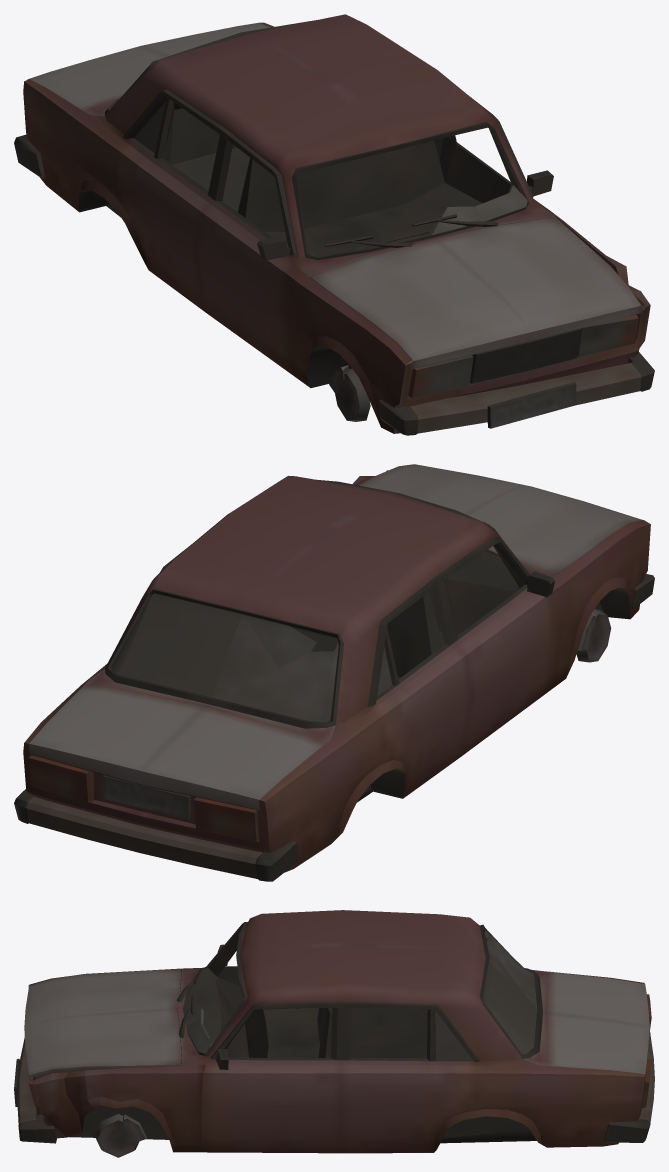
The model's file is vaz_2105dmg.fbx.
3 renders of one model, top to bottom at view 1: azimuth 30°, elevation 25°; view 2: azimuth 150°, elevation 25°; view 3: azimuth 270°, elevation 25°, orthographic. The views are drawn at different scales.
Visible parts, largest first — view 1: bz_vaz2105_d, bz_vaz2105_hood, bz_vaz2105_susp; view 2: bz_vaz2105_d, bz_vaz2105_hood, bz_vaz2105_susp; view 3: bz_vaz2105_d, bz_vaz2105_hood, bz_vaz2105_susp.
Boxes of the visible parts, x1,y1,x2,y2 form: bz_vaz2105_d: (14,14,654,435); bz_vaz2105_hood: (310,217,641,368); bz_vaz2105_susp: (329,365,370,421); bz_vaz2105_d: (14,470,654,881); bz_vaz2105_hood: (359,464,642,574); bz_vaz2105_susp: (576,609,611,662); bz_vaz2105_d: (14,910,654,1153); bz_vaz2105_hood: (24,968,181,1081); bz_vaz2105_susp: (94,1114,147,1157).
Bounding box in the file's own units: 1.78 × 1.21 × 4.2.
